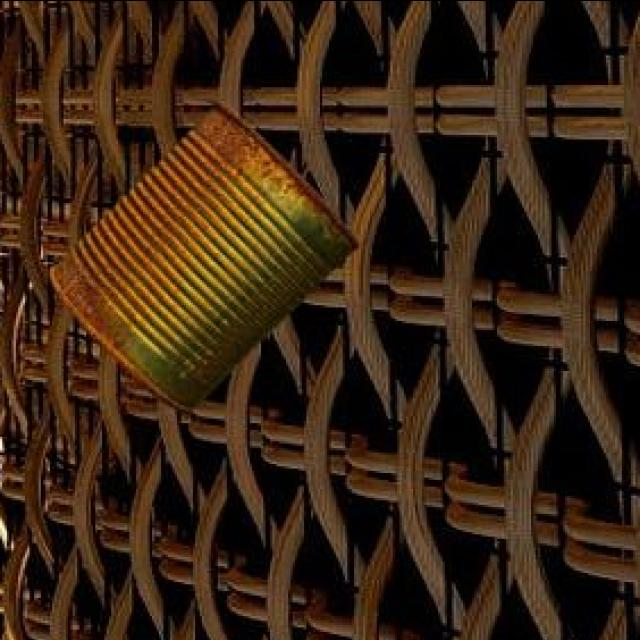logam: (51, 96, 362, 410)
